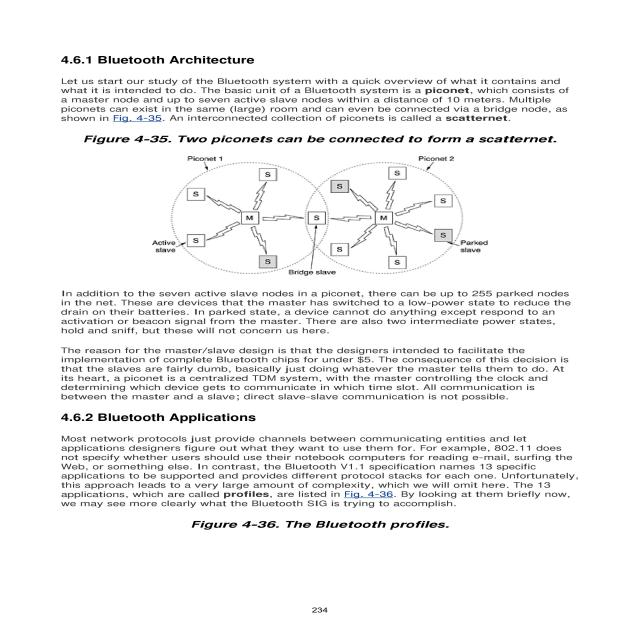diagram: (62, 127, 589, 283)
